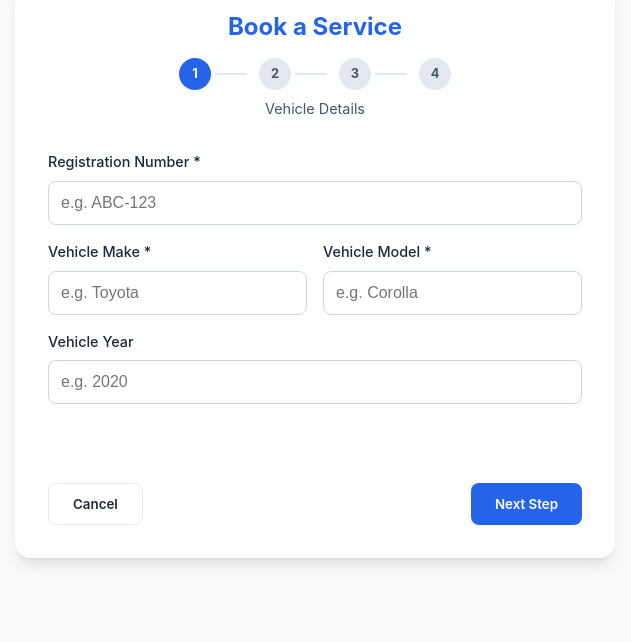
BookingForm › should proceed to step 2 when step 1 is valid
In the field labelled "Registration Number *": (315, 203) [48,181,582,225], type "ABC-123"
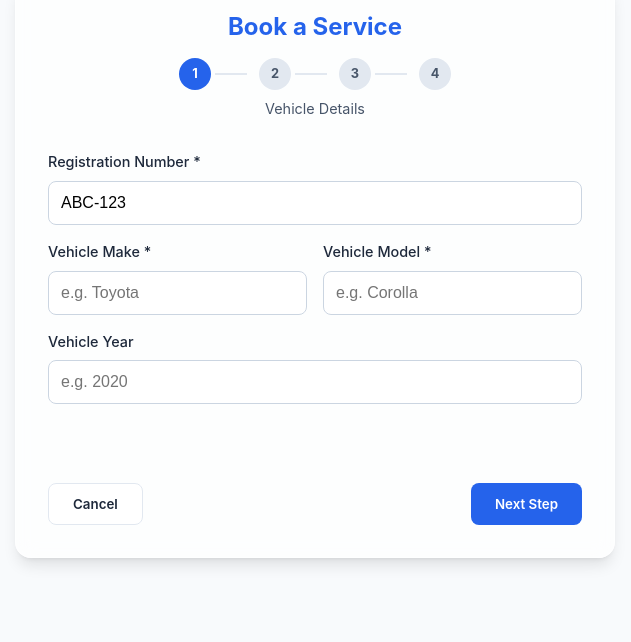
In the field labelled "Vehicle Make *": (178, 293) [48,271,307,315], type "Toyota"
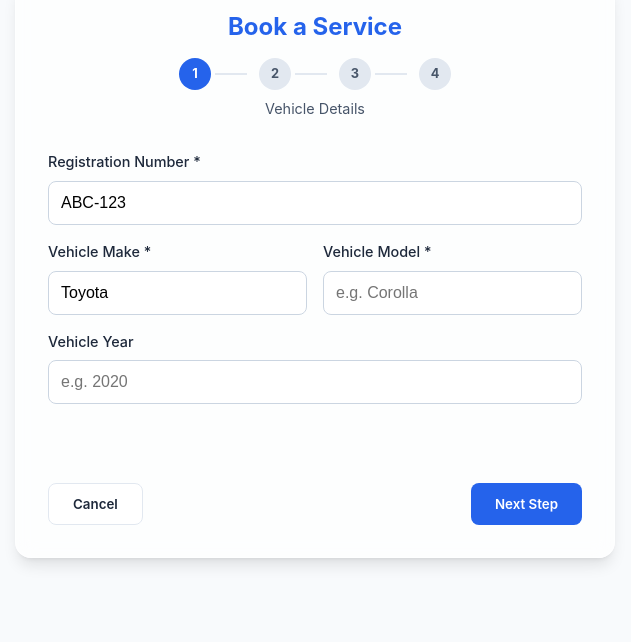
In the field labelled "Vehicle Model *": (452, 293) [323,271,582,315], type "Corolla"
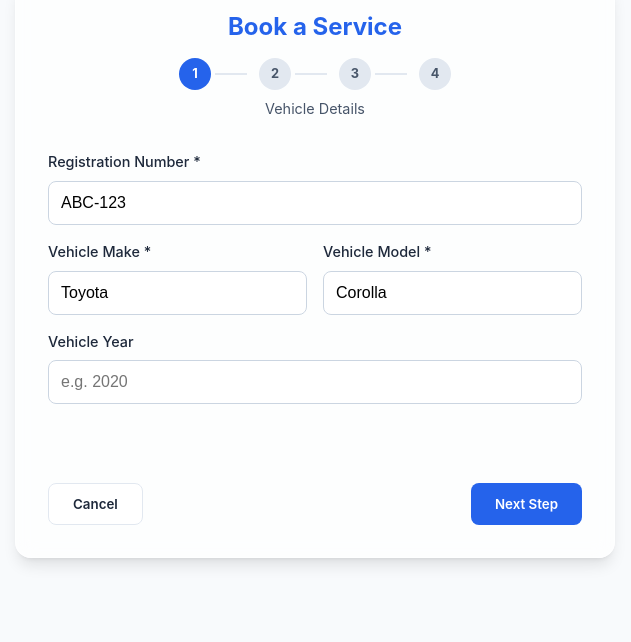
Click the button "Next Step": (526, 504) [471,483,582,525]
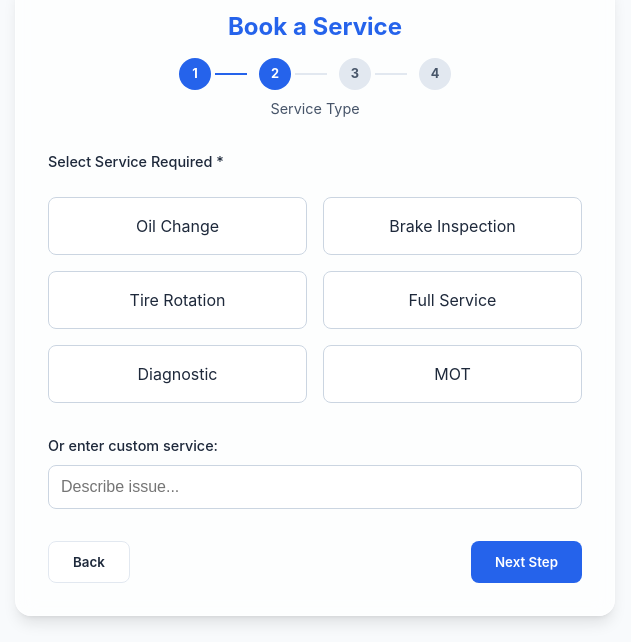
Check: the text "Service Type" is shown, box [270,100,360,117]
